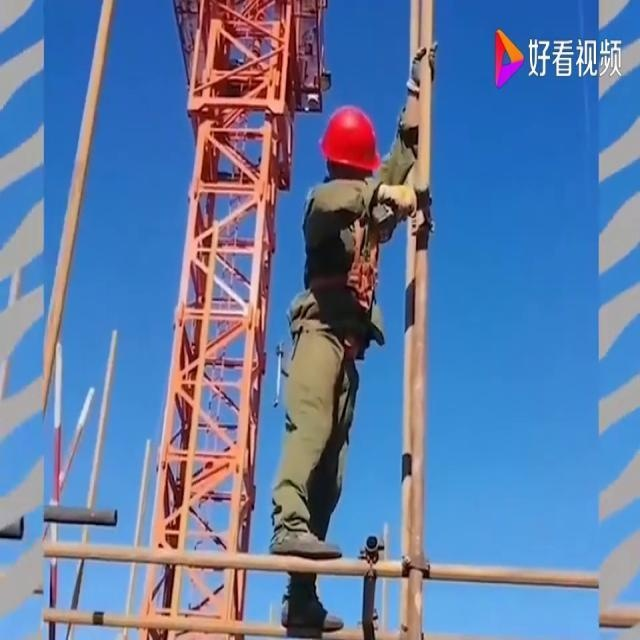Arnes_seguridad: (305, 179, 385, 314)
